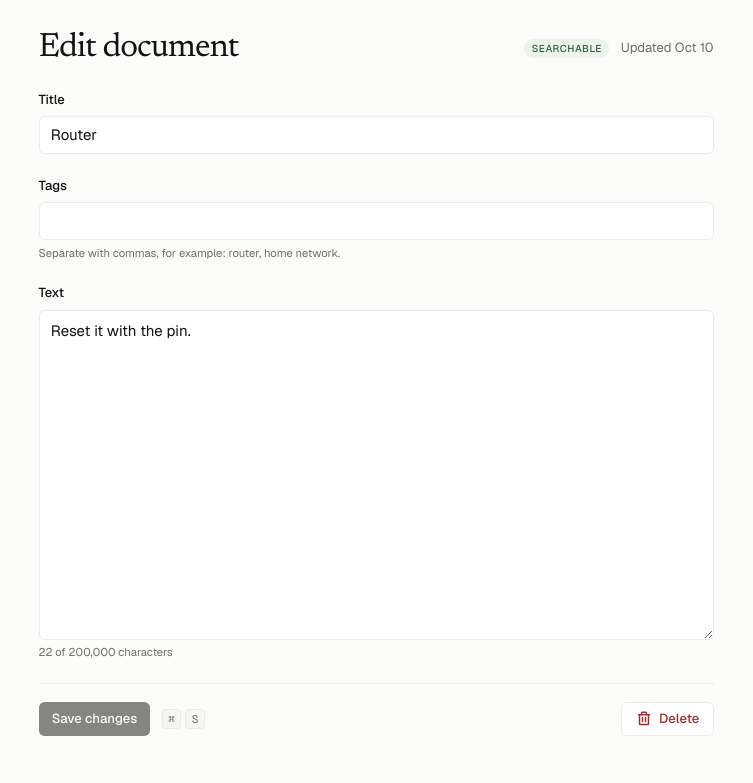
Test: document editor › still reports success when refreshing the list fails afterwards
The width and height of the screenshot is (753, 783).
Replace the text in the text box labelled "Text" with "edit" at [376, 474], box [38,310,714,640]
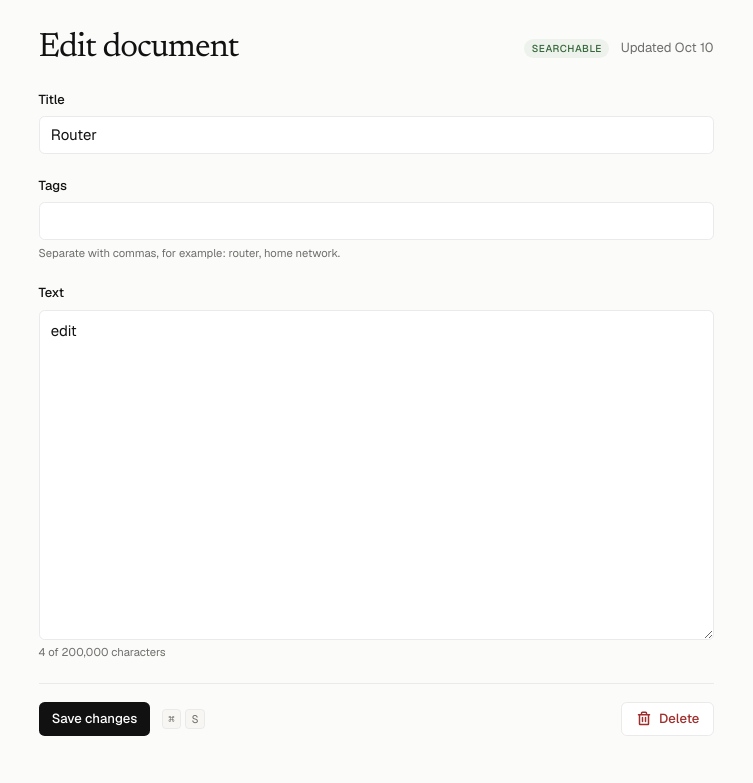
Submit the form named "Text"
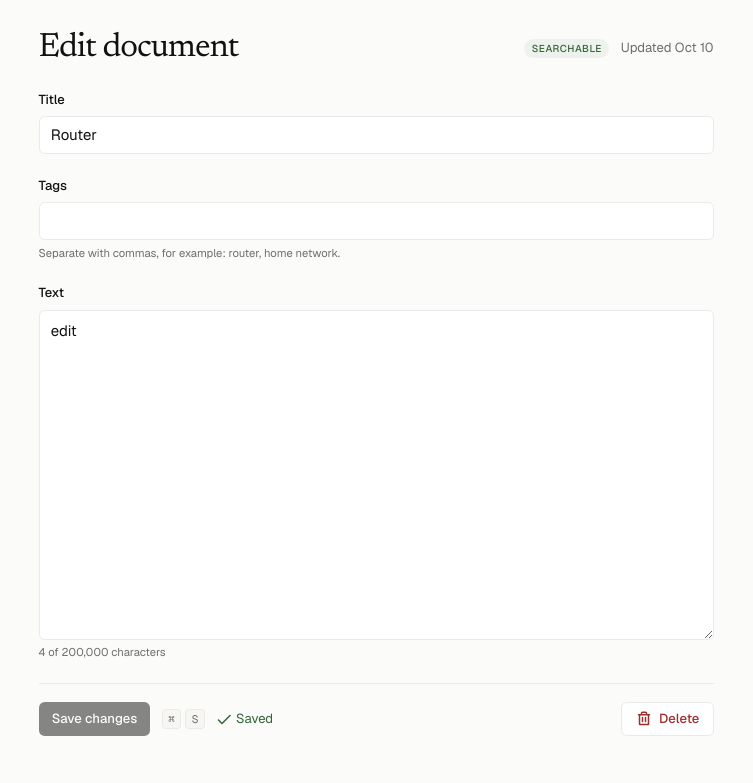
Expected: the message reads "Saved", [236,710,273,727]
